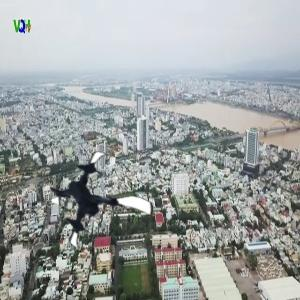drone: (46, 150, 156, 260)
